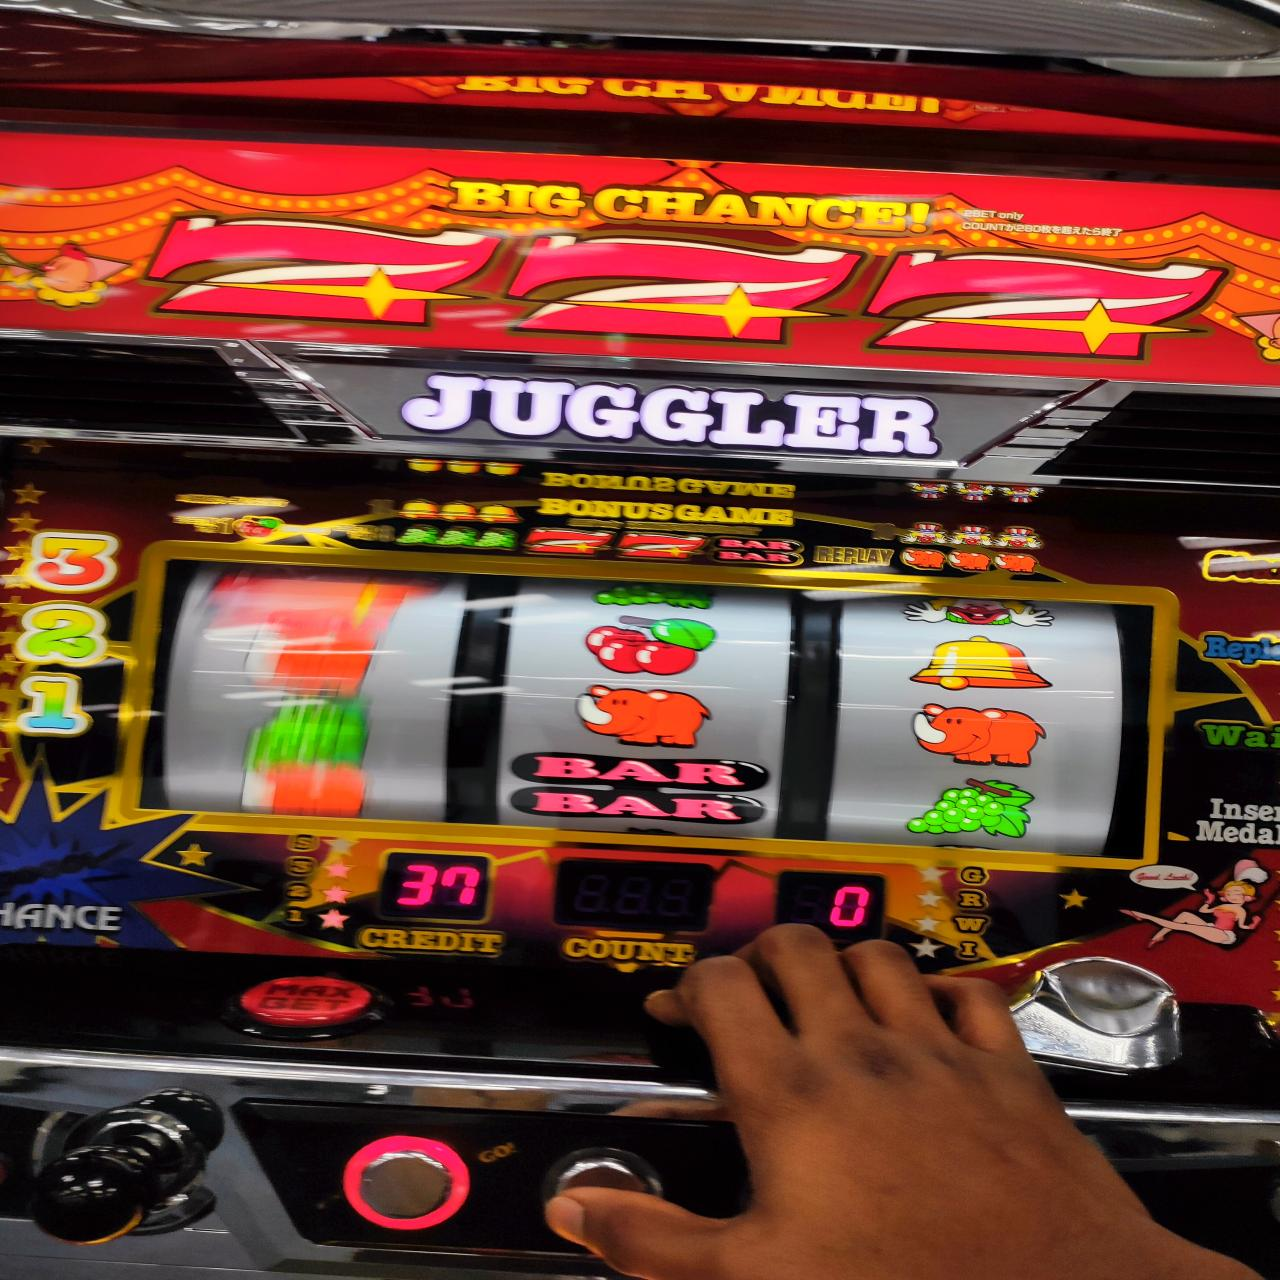8: (508, 751, 768, 826), (910, 700, 1047, 768), (576, 683, 716, 747)
bell: (904, 634, 1057, 692)
cherry: (583, 614, 720, 673)
grape: (908, 779, 1033, 843)
rhino: (151, 552, 1146, 864)
